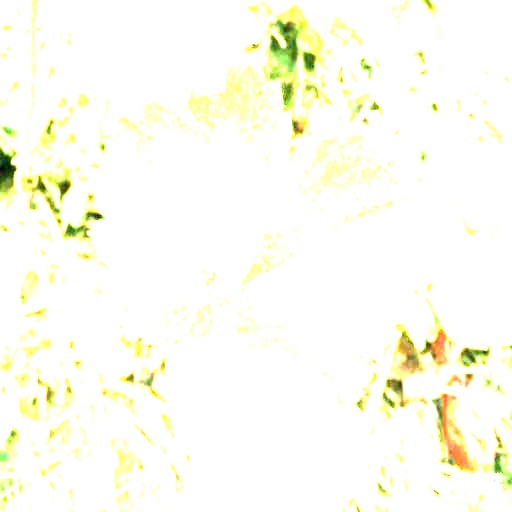Leaf Spot: (88, 56, 293, 346), (164, 285, 371, 511), (235, 119, 426, 361)
